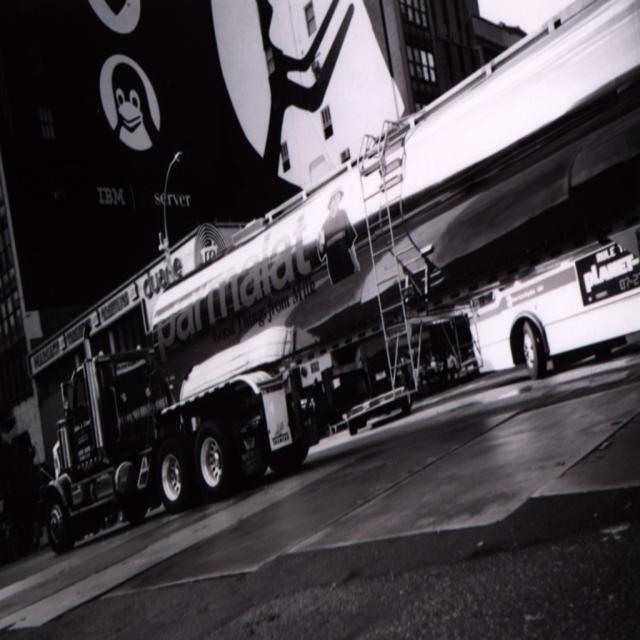Buses: (472, 248, 640, 401)
Heavy Duty Truck: (39, 287, 354, 566)
